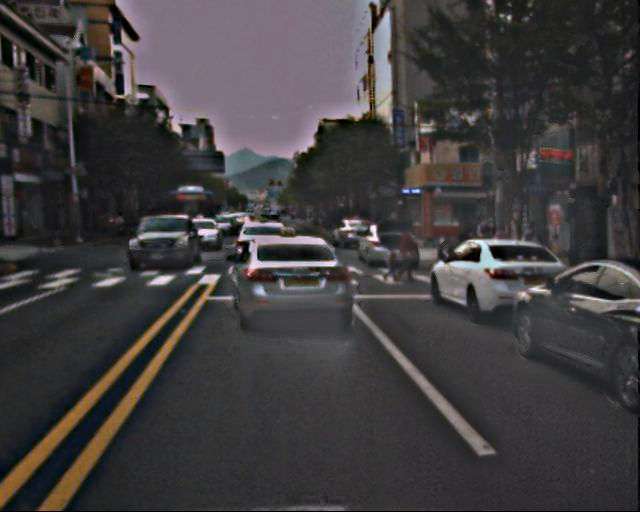person: (395, 226, 419, 285), (477, 217, 498, 268)
